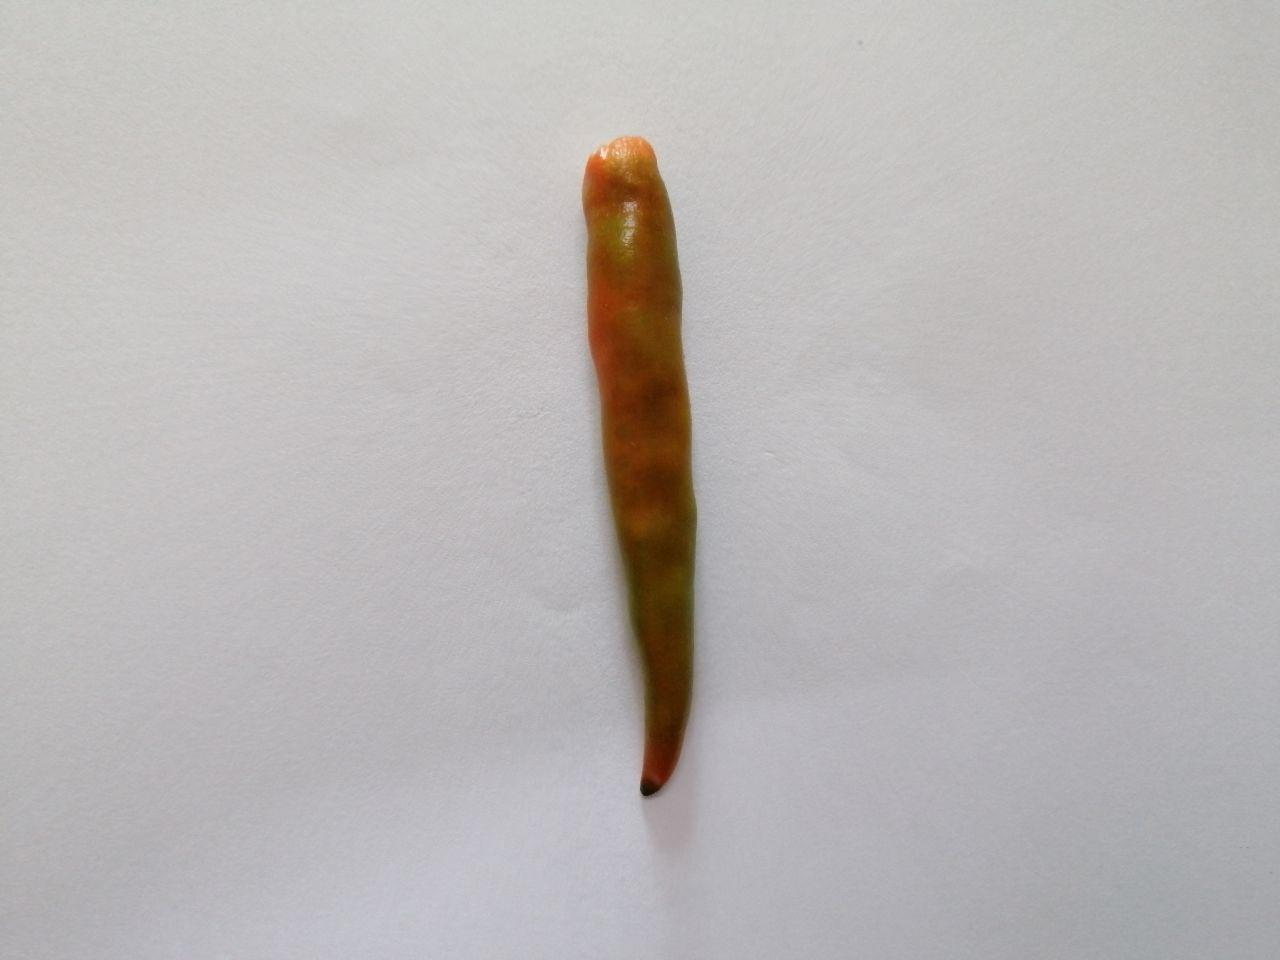lada kuning: (553, 115, 759, 814)
